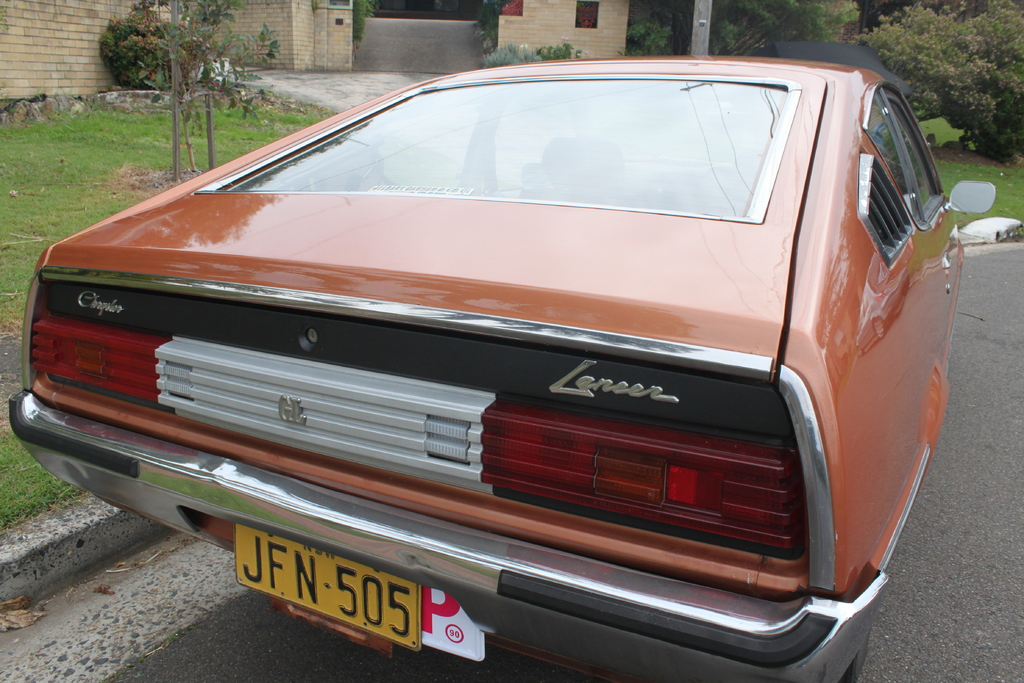Car: (39, 45, 989, 679)
